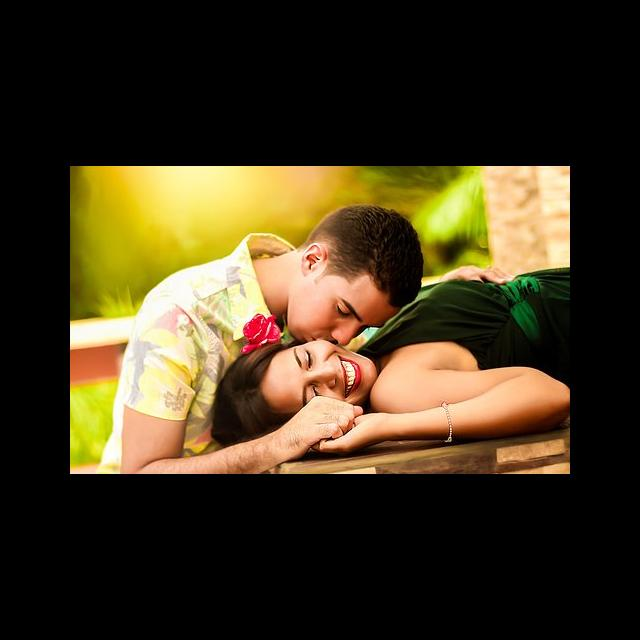female: (231, 328, 370, 432)
male: (276, 197, 419, 337)
